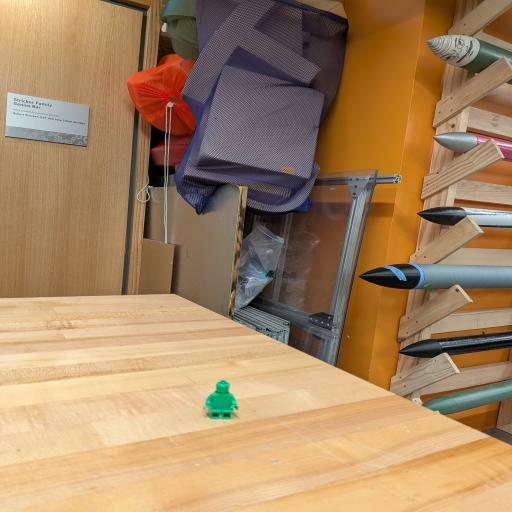Minifig: (204, 381, 238, 419)
